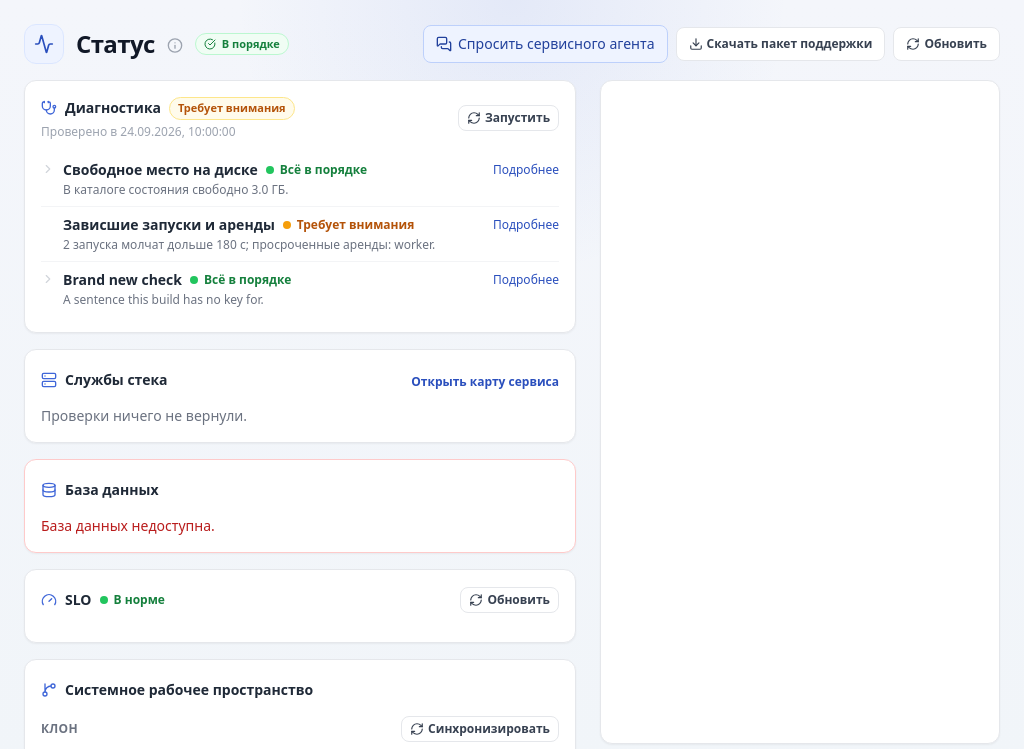
Health — Diagnostics in the reader's language › translates detail labels and formats their values
The image size is (1024, 749).
Click the text "Свободное место на диске" at (160, 170), box x1=63 y1=160 x2=258 y2=180
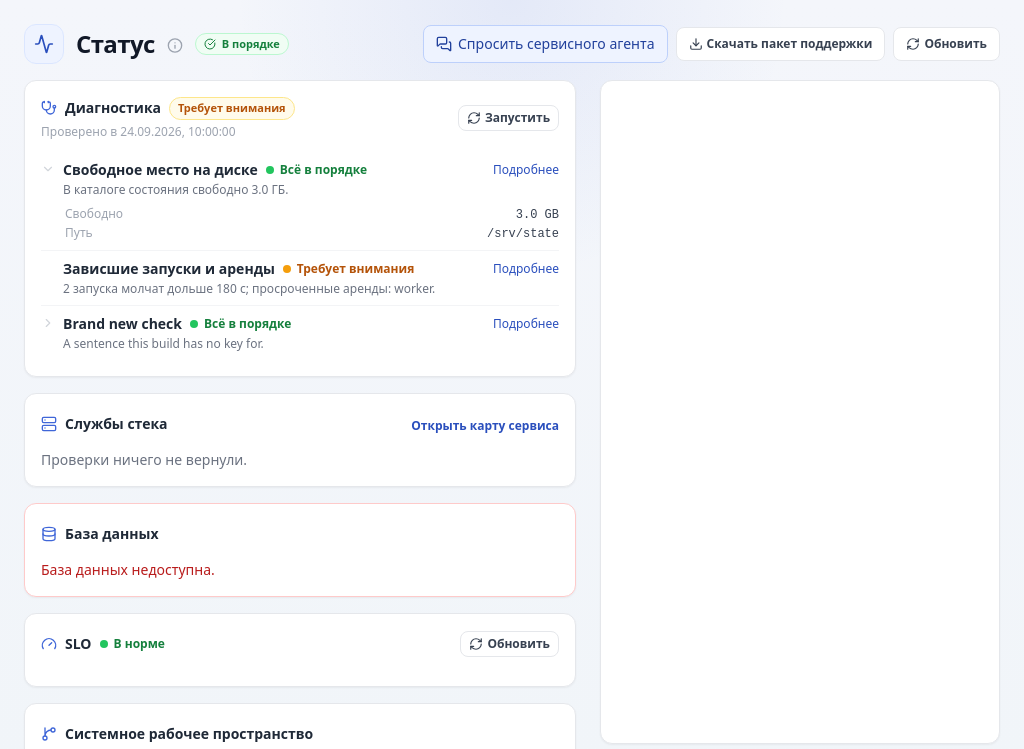
Now the text "3.0 GB" is shown, box x1=516 y1=206 x2=559 y2=222
Click the text "Brand new check" at (122, 324), box x1=63 y1=314 x2=182 y2=334
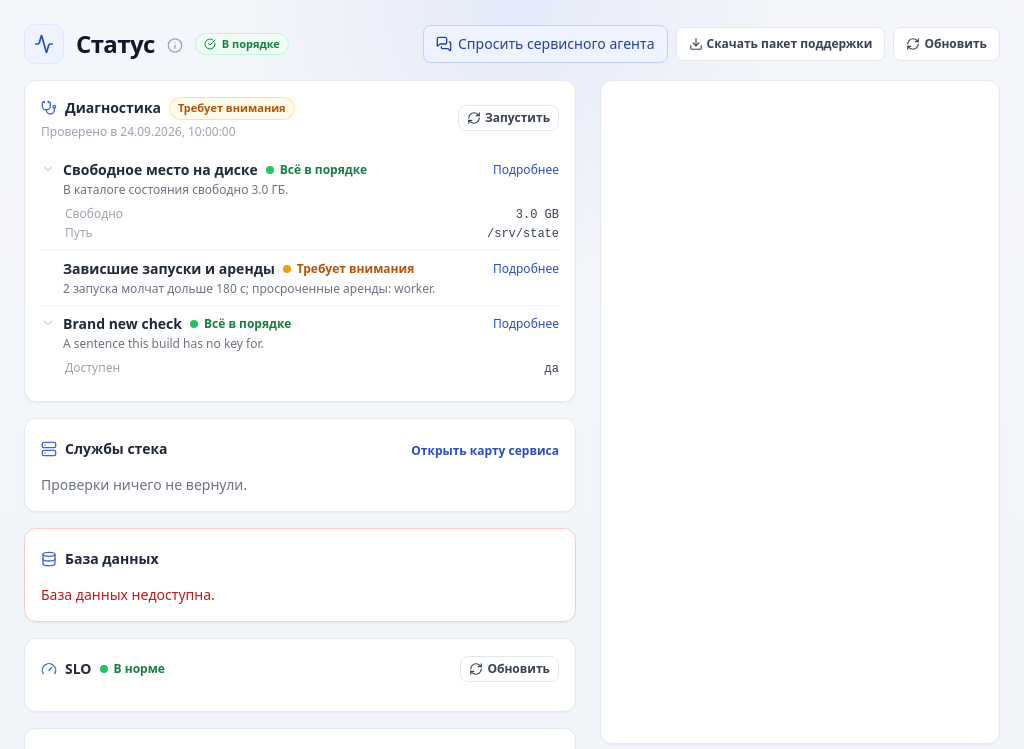
Now the text "Доступен" is shown, box x1=65 y1=360 x2=120 y2=376
Now the text "да" is shown, box x1=545 y1=360 x2=559 y2=376
